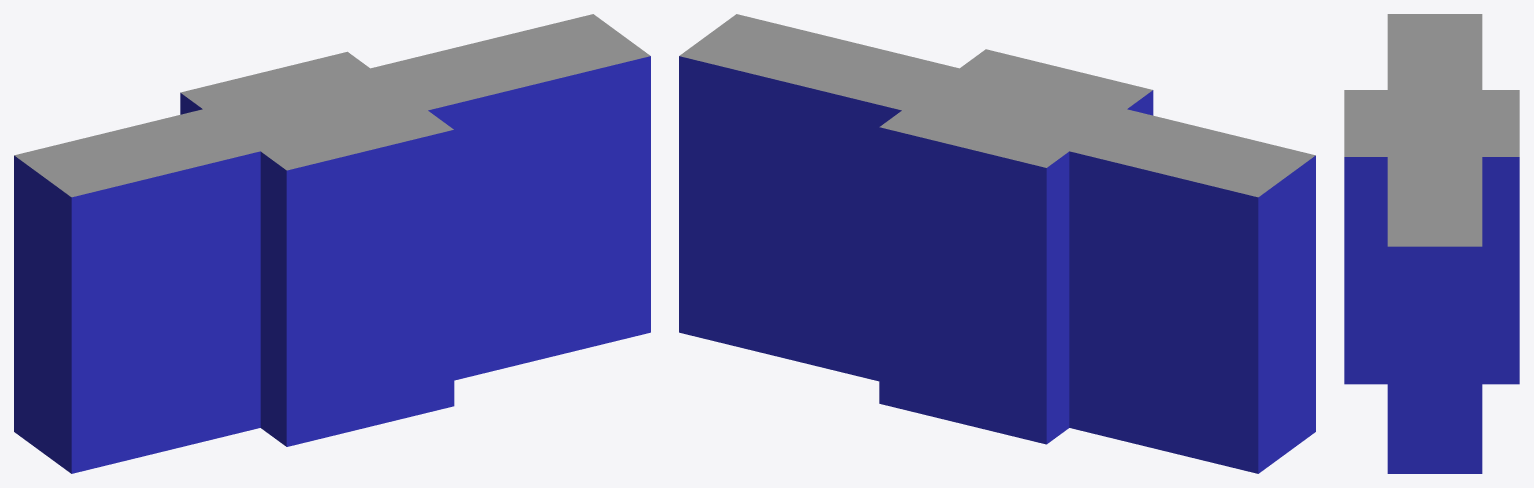
The model's file is Floor 1.fbx.
3 views of the same model, side by side, from view 1: azimuth 30°, elevation 25°; view 2: azimuth 150°, elevation 25°; view 3: azimuth 270°, elevation 25° (orthographic). The views are drawn at different scales.
Visible parts, largest first — view 1: Floor.001; view 2: Floor.001; view 3: Floor.001.
Boxes of the visible parts, box(x1,y1,x2,y2) form: Floor.001: box(14, 14, 650, 473); Floor.001: box(679, 14, 1315, 473); Floor.001: box(1344, 14, 1519, 473).
Bounding box in the file's own units: 51.56 × 23.52 × 16.43.
